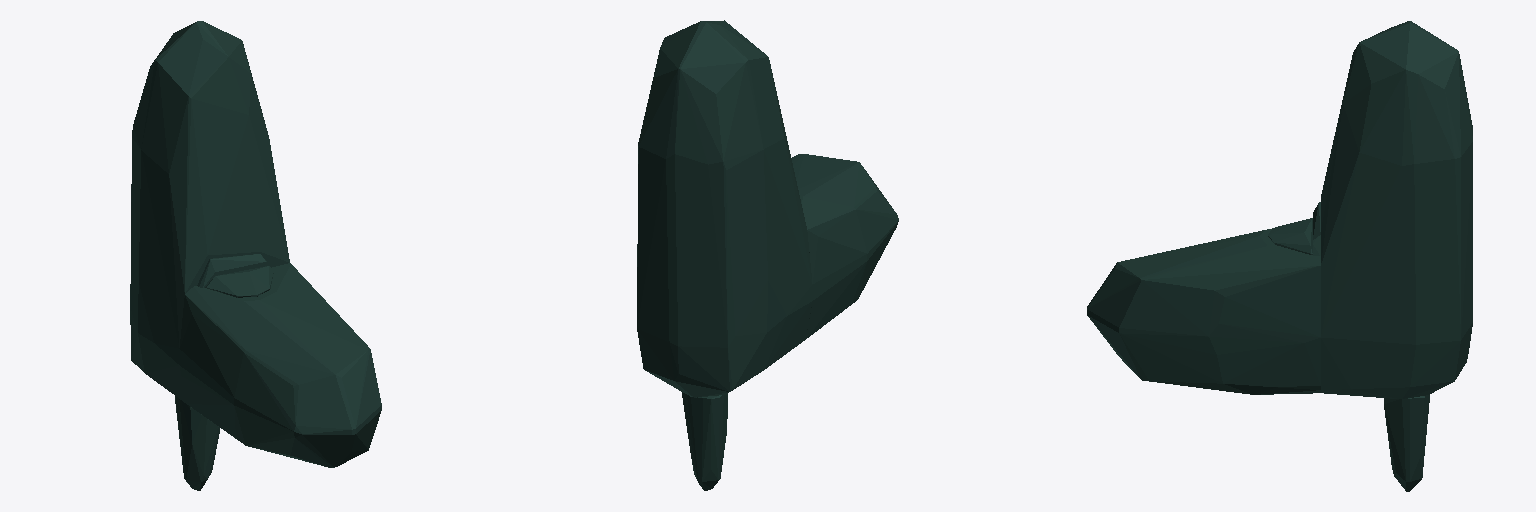
URDF robot description (blob971):
<robot name="blob971">
  <link name="random_obj_971">
    <contact>
      <lateral_friction value="1.0"/>
      <rolling_friction value="0.0"/>
      <inertia_scaling value="3.0"/>
      <contact_cfm value="0.0"/>
      <contact_erp value="1.0"/>
    </contact>
    <inertial>
      <origin rpy="0 0 0" xyz="0 0 0"/>
      <mass value="0.1"/>
      <inertia ixx="1" ixy="0" ixz="0" iyy="1" iyz="0" izz="0"/>
    </inertial>
    <visual>
      <origin rpy="0 0 0" xyz="0 0 0"/>
      <geometry>
        <mesh filename="971.obj" scale="0.015 0.015 0.015"/>
      </geometry>
      <material name="blockmat">
        <color rgba="0.17 0.27 0.25 1"/>
      </material>
    </visual>
    <collision>
      <origin rpy="0 0 0" xyz="0 0 0"/>
      <geometry>
        <mesh filename="971.obj" scale="0.015 0.015 0.015"/>
      </geometry>
    </collision>
  </link>
</robot>

--- Facts derived from the render (not from the file) ---
Views: 3 orthographic renders of the robot side by side, from view 1: azimuth 30°, elevation 25°; view 2: azimuth 150°, elevation 25°; view 3: azimuth 270°, elevation 25°.
Robot: blob971 — 1 links, 0 joints (none); root link random_obj_971; default pose: every joint at zero.
Visible links, largest first — view 1: random_obj_971; view 2: random_obj_971; view 3: random_obj_971.
Boxes of the visible links, box(x1,y1,x2,y2) form: random_obj_971: box(130, 21, 381, 490); random_obj_971: box(637, 20, 898, 490); random_obj_971: box(1087, 21, 1472, 491).
Bounding box of the posed robot: 0.0317 × 0.0898 × 0.1205 m (x, y, z).
1 mesh visuals loaded from 1 distinct referenced files (1 OBJ).